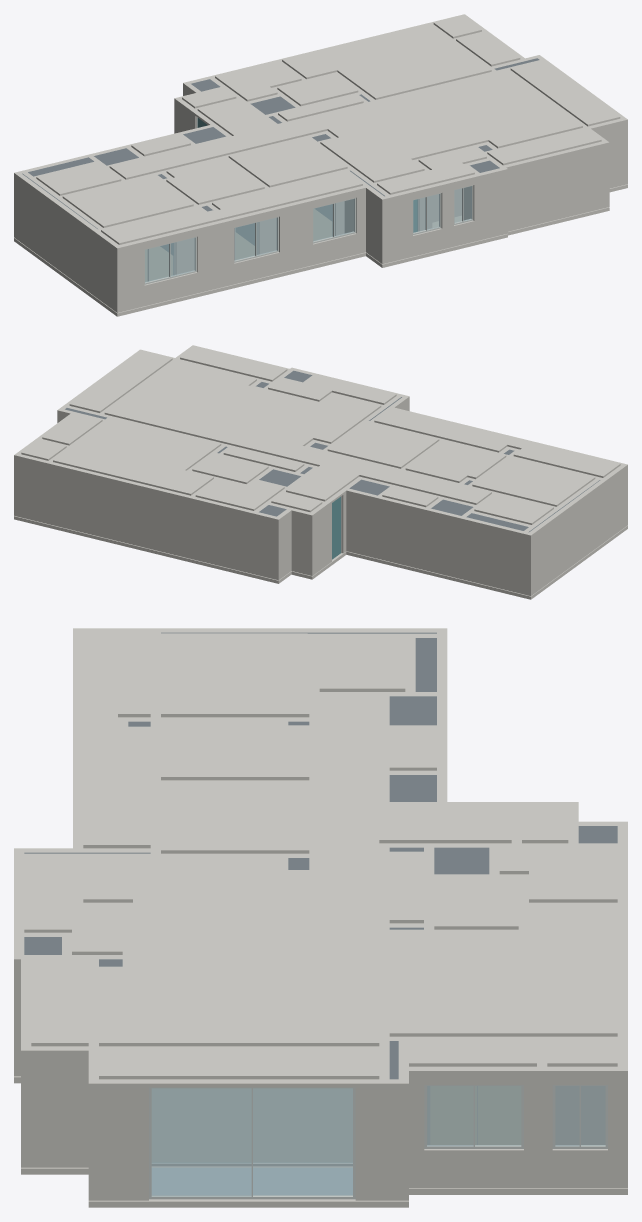
Rendered from acro168c-basic-archisketch.glb.
3 renders of one model, top to bottom at view 1: azimuth 30°, elevation 25°; view 2: azimuth 150°, elevation 25°; view 3: azimuth 270°, elevation 25°, orthographic. The views are drawn at different scales.
Parts seen in each view (by area): view 1: Ceiling/04, Wall/layer-00/00, Wall/layer-03/00, Ceiling/10, Wall/layer-01/05, Ceiling/08, Wall/layer-01/00, Wall/layer-02/00, Ceiling/05, Ceiling/07, Ceiling/06, Base/00 (+31 smaller); view 2: Ceiling/04, Wall/layer-01/08, Wall/layer-03/00, Wall/layer-01/00, Ceiling/10, Wall/layer-00/01, Wall/layer-00/00, Ceiling/08, Ceiling/05, Ceiling/07, Base/00, Ceiling/06 (+17 smaller); view 3: Ceiling/04, Wall/layer-03/00, Ceiling/10, Floor/living-kitchen-hall, Ceiling/08, Ceiling/05, Wall/layer-00/01, sliding-18/glass-1, Ceiling/07, sliding-18/glass-0, Ceiling/14, Ceiling/06 (+34 smaller).
Boxes of the visible parts, left/top/right/bottom form: Ceiling/04: left=109, top=69, right=582, bottom=182; Wall/layer-00/00: left=14, top=163, right=627, bottom=312; Wall/layer-03/00: left=14, top=14, right=627, bottom=250; Ceiling/10: left=282, top=24, right=491, bottom=99; Wall/layer-01/05: left=418, top=127, right=627, bottom=220; Ceiling/08: left=101, top=170, right=362, bottom=244; Wall/layer-01/00: left=14, top=181, right=144, bottom=292; Wall/layer-02/00: left=14, top=121, right=627, bottom=255; Ceiling/05: left=62, top=174, right=193, bottom=227; Ceiling/07: left=228, top=137, right=347, bottom=187; Ceiling/06: left=166, top=157, right=264, bottom=204; Base/00: left=14, top=184, right=627, bottom=316; Ceiling/04: left=104, top=359, right=491, bottom=504; Wall/layer-01/08: left=14, top=462, right=331, bottom=560; Wall/layer-03/00: left=14, top=345, right=627, bottom=537; Wall/layer-01/00: left=342, top=472, right=627, bottom=576; Ceiling/10: left=53, top=417, right=221, bottom=495; Wall/layer-00/01: left=14, top=496, right=331, bottom=580; Wall/layer-00/00: left=342, top=506, right=627, bottom=595; Ceiling/08: left=374, top=408, right=620, bottom=477; Ceiling/05: left=472, top=456, right=595, bottom=506; Ceiling/07: left=327, top=421, right=439, bottom=468; Base/00: left=14, top=516, right=627, bottom=599; Ceiling/06: left=405, top=440, right=506, bottom=482; Ceiling/04: left=83, top=693, right=511, bottom=1046; Wall/layer-03/00: left=14, top=628, right=627, bottom=1087; Ceiling/10: left=389, top=903, right=617, bottom=1036; Floor/living-kitchen-hall: left=152, top=1088, right=352, bottom=1161; Ceiling/08: left=83, top=629, right=150, bottom=848; Ceiling/05: left=161, top=634, right=309, bottom=717; Wall/layer-00/01: left=355, top=1120, right=627, bottom=1200; sliding-18/glass-1: left=151, top=1088, right=251, bottom=1196; Ceiling/07: left=161, top=781, right=309, bottom=853; sliding-18/glass-0: left=253, top=1088, right=352, bottom=1195; Ceiling/14: left=99, top=1047, right=379, bottom=1079; Ceiling/06: left=161, top=718, right=309, bottom=780.
Bounding box in the file's own units: 20.87 × 2.72 × 11.9.
